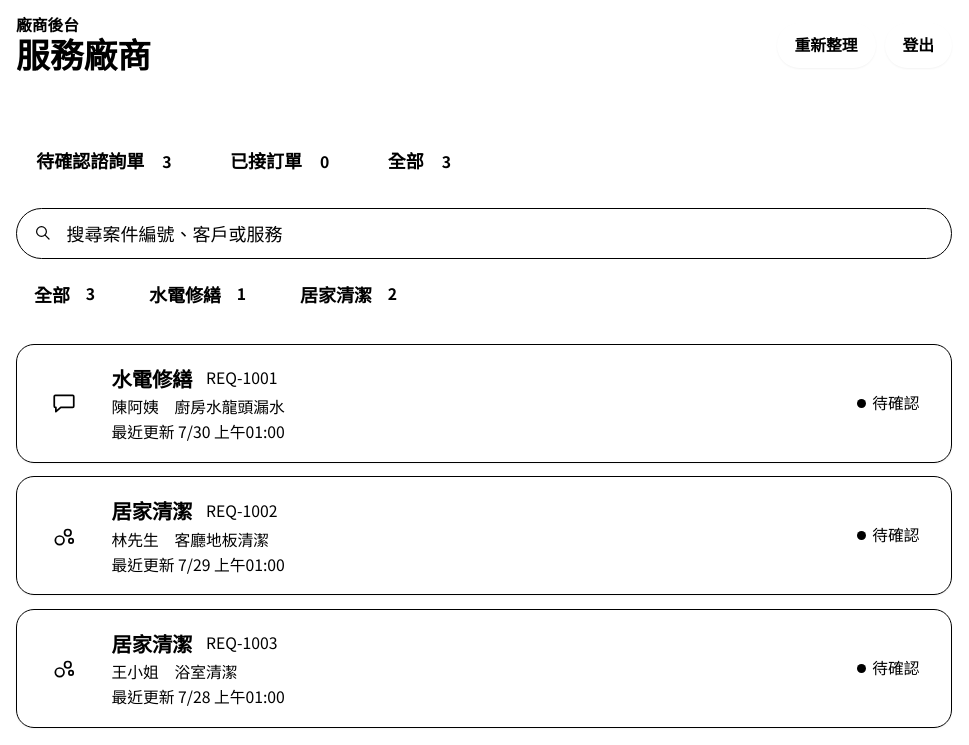
Test: VendorRequestsPage 分類與搜尋 › filters the request list when a service category chip is clicked
Expected: the text "REQ-1001" is shown, [206,367,277,390]
Click the button "水電修繕 1" at (202, 294), box [131,272,273,316]
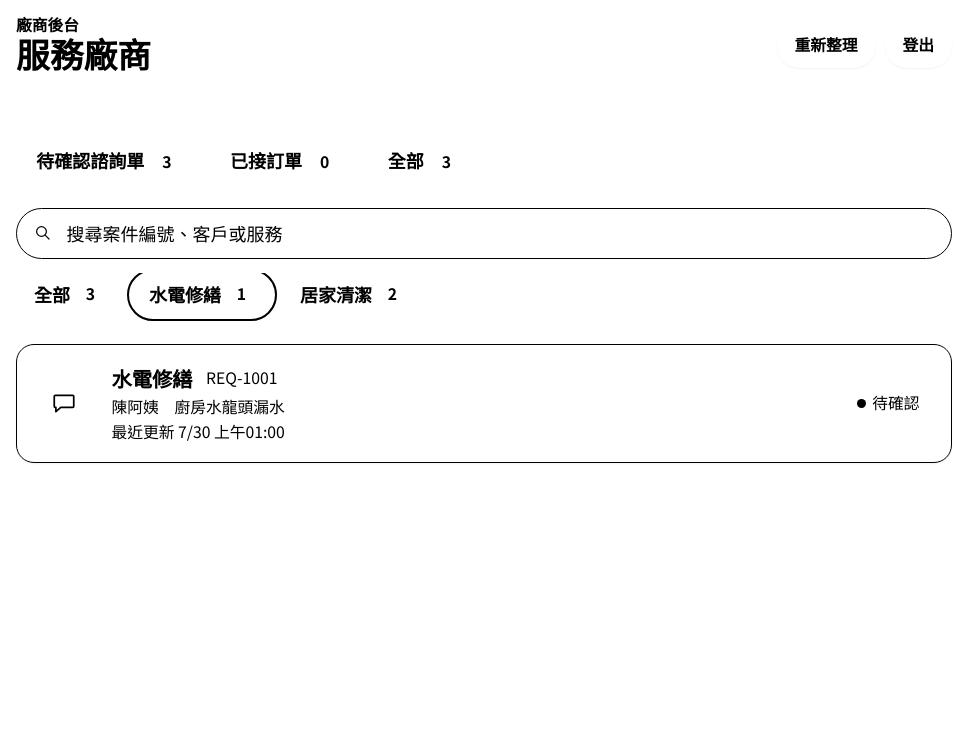
Expected: the text "REQ-1001" is shown, [206,367,277,390]
Result: the link "REQ-1002" is gone
Result: the link "REQ-1003" is gone
